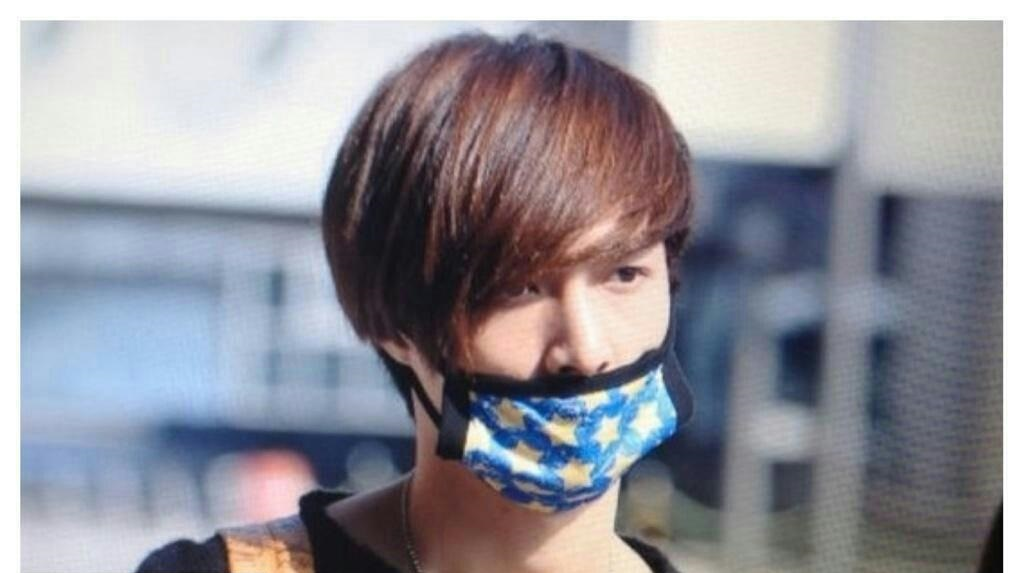face_mask: (383, 152, 694, 508)
